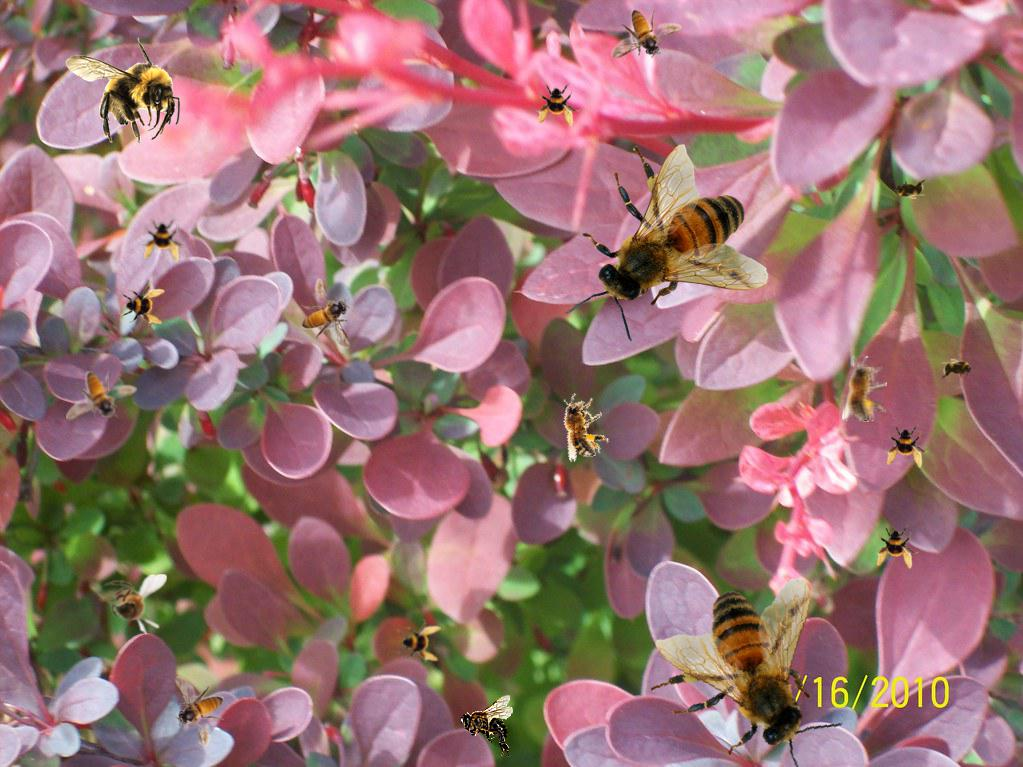Bee: (637, 556, 866, 767), (565, 144, 769, 343), (65, 37, 180, 144), (550, 387, 614, 464), (97, 574, 167, 635), (66, 371, 137, 421), (611, 9, 682, 59), (301, 278, 351, 349), (174, 676, 224, 747), (460, 695, 513, 757), (842, 356, 887, 422), (142, 218, 186, 262), (121, 282, 165, 326), (536, 83, 580, 127), (397, 619, 441, 663), (885, 424, 929, 468), (875, 525, 919, 569), (938, 358, 978, 380), (889, 178, 929, 200)
